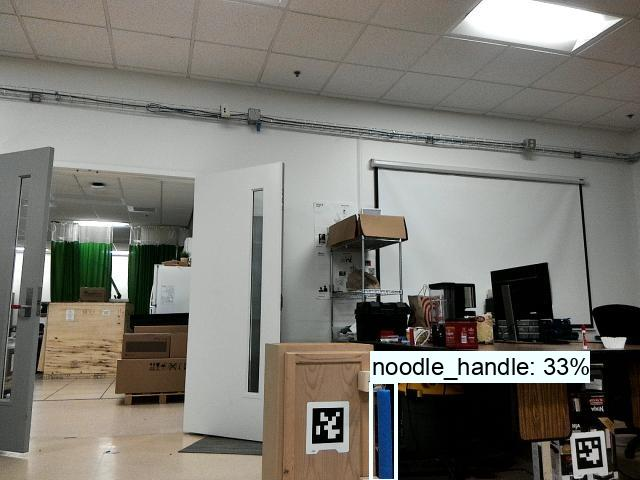noodle_handle: (371, 378, 398, 480)
